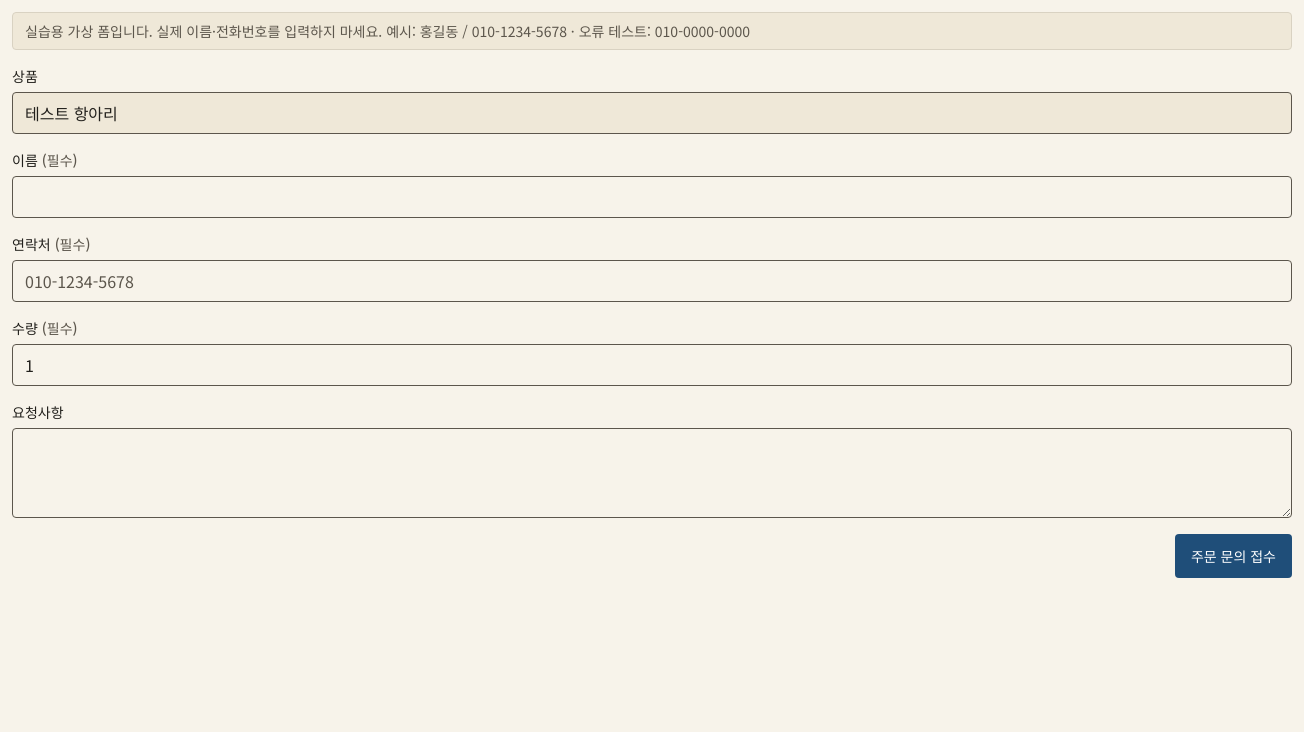
Test: OrderInquiryForm › 실패하면 alert와 입력값을 유지하고, 연락처를 고쳐 다시 시도하면 고친 값으로 제출한다
Type "  홍길동 " into the field labelled "이름(필수)" at (652, 197), box left=12, top=176, right=1292, bottom=218
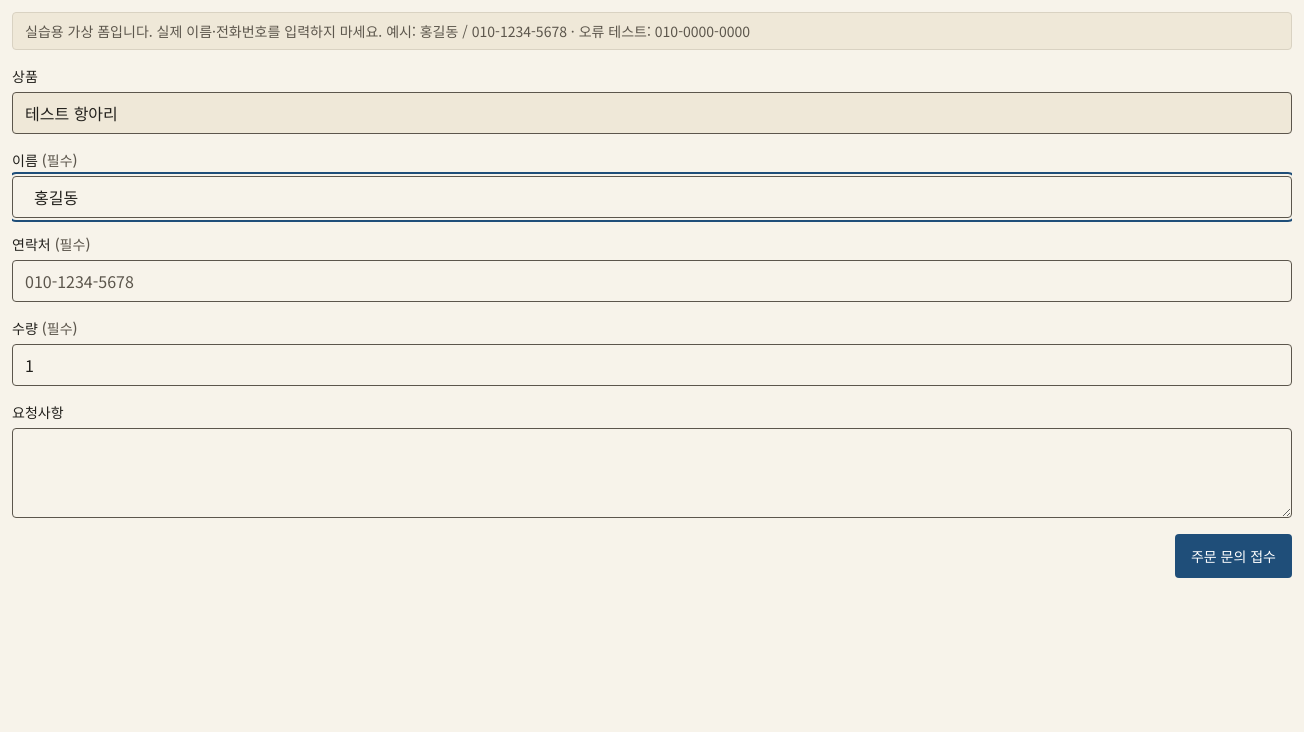
Type "010-0000-0000" into the field labelled "연락처(필수)" at (652, 281), box left=12, top=260, right=1292, bottom=302
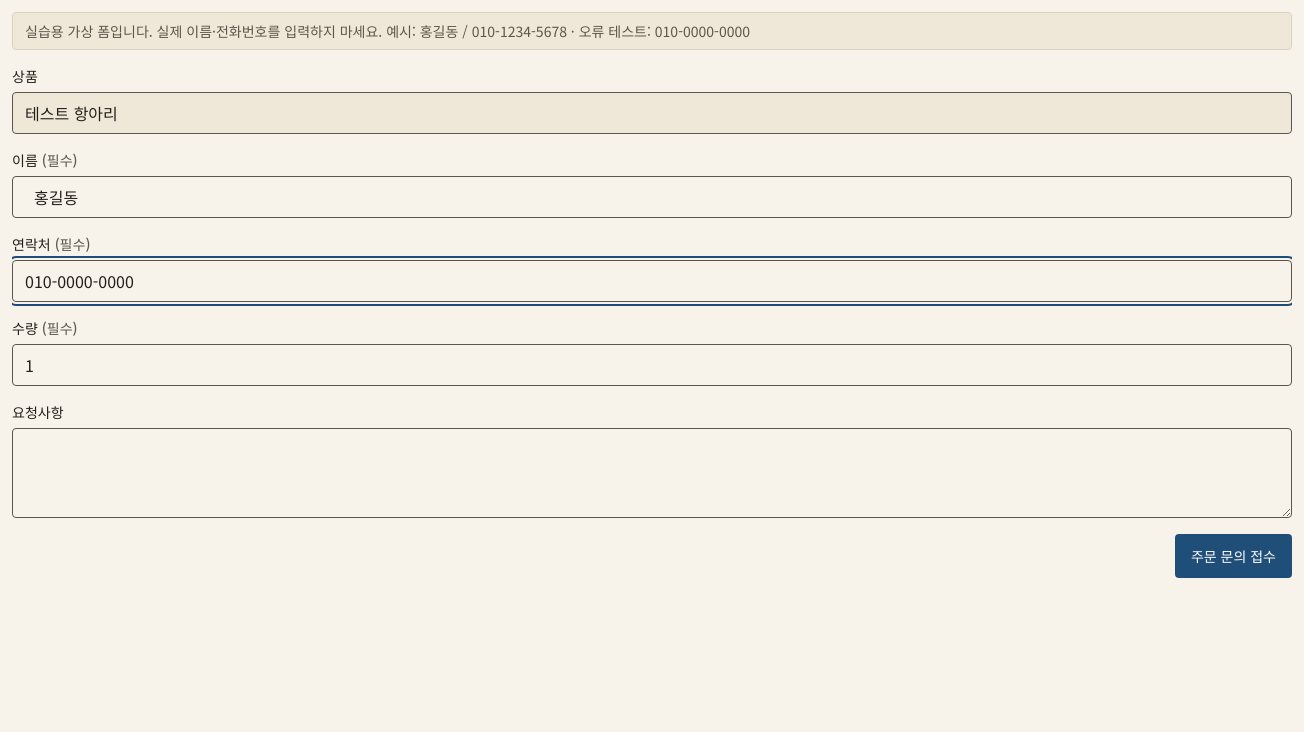
Click the button "주문 문의 접수" at (1233, 556), box left=1175, top=534, right=1292, bottom=578
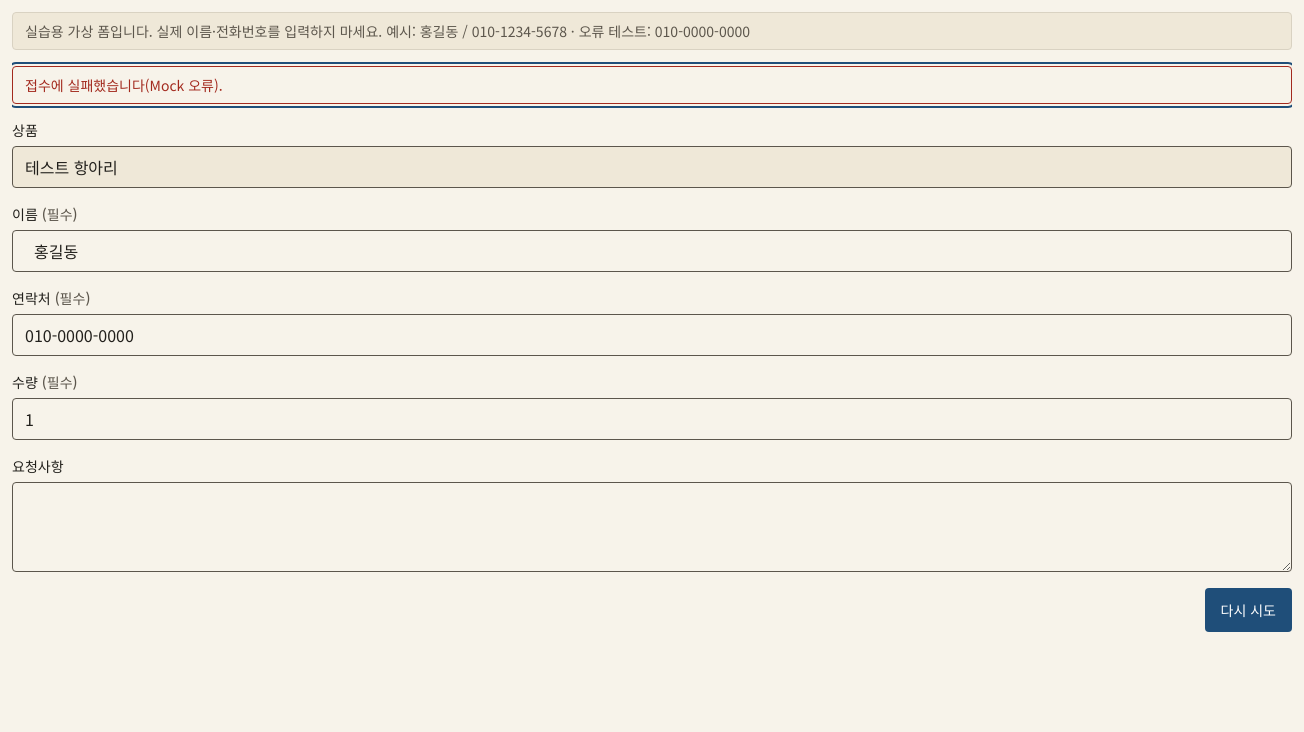
Check: the message reads "접수에 실패했습니다(Mock 오류).", box left=25, top=75, right=223, bottom=95
Replace the text in the field labelled "연락처(필수)" with "010-1111-2222" at (652, 335), box left=12, top=314, right=1292, bottom=356
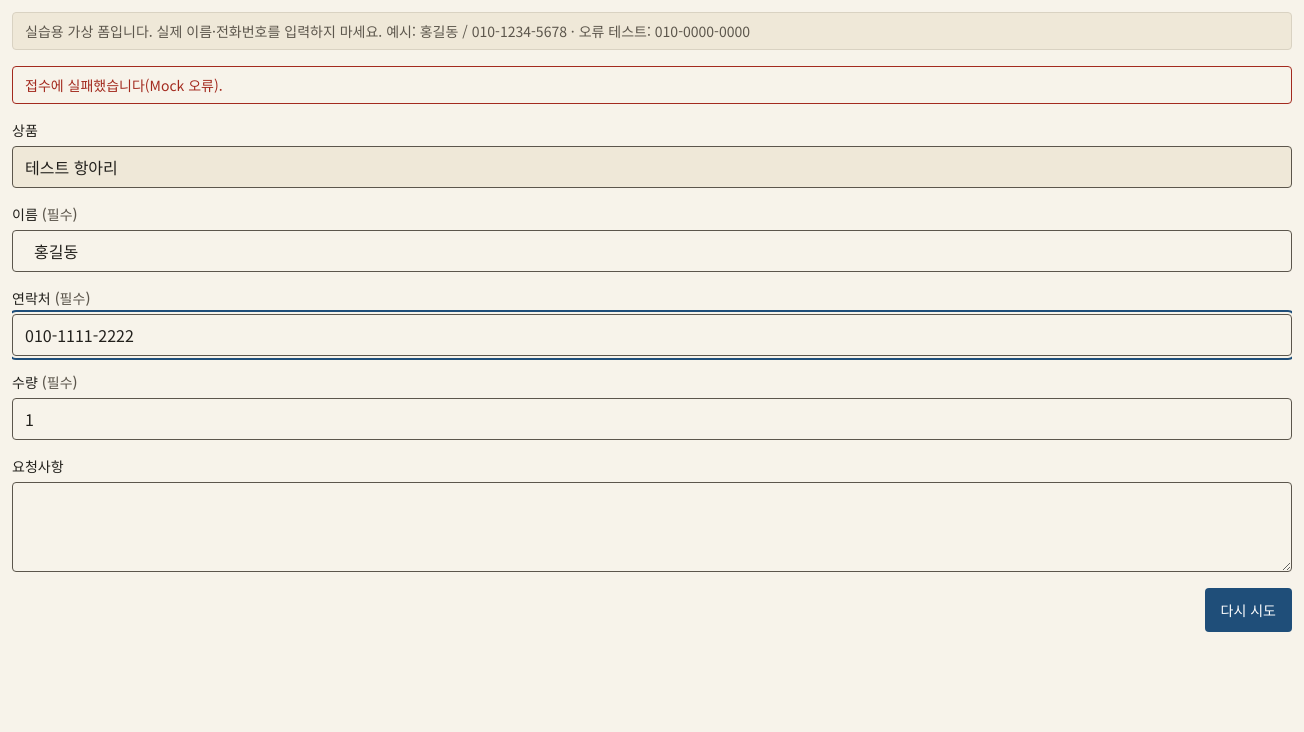
Check: the message "접수에 실패했습니다(Mock 오류)." is shown, box left=12, top=66, right=1292, bottom=104
Click the button "다시 시도" at (1248, 610), box left=1204, top=588, right=1292, bottom=632
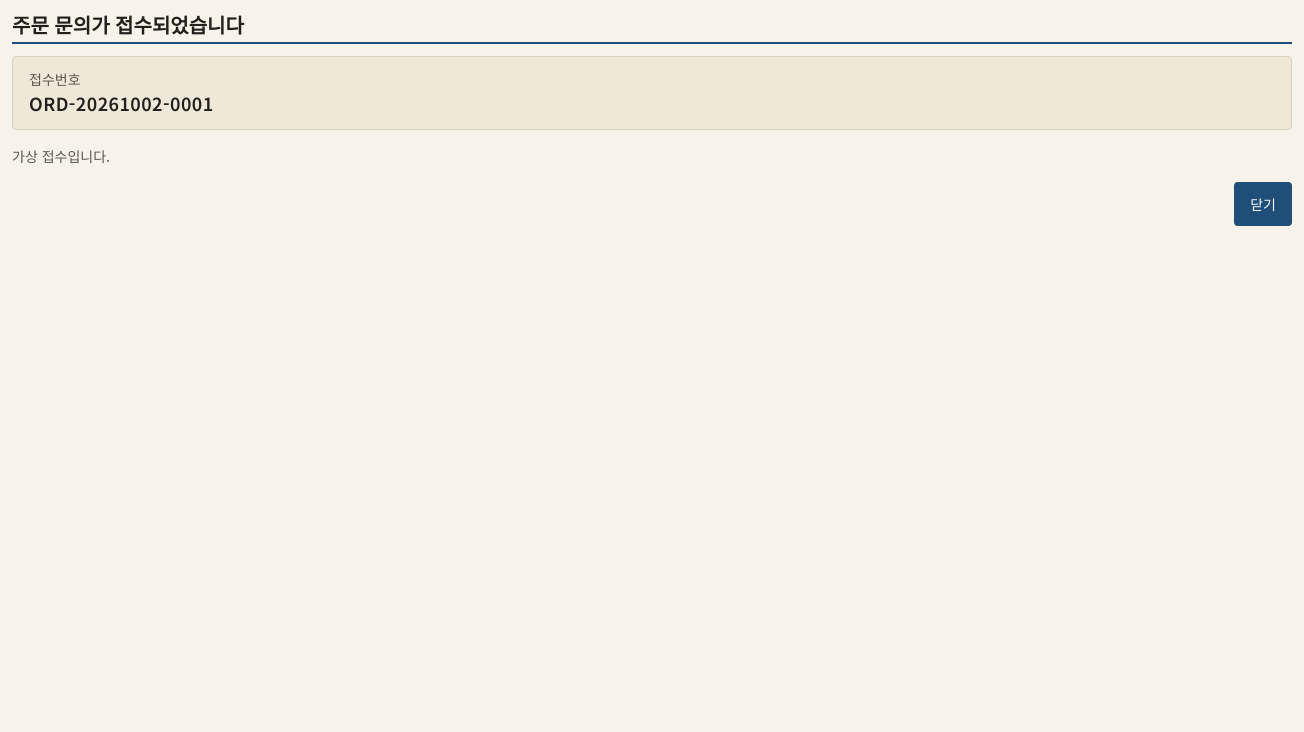
Check: the text "ORD-20261002-0001" is shown, box left=29, top=90, right=214, bottom=116
Check: the message "접수에 실패했습니다(Mock 오류)." is gone
